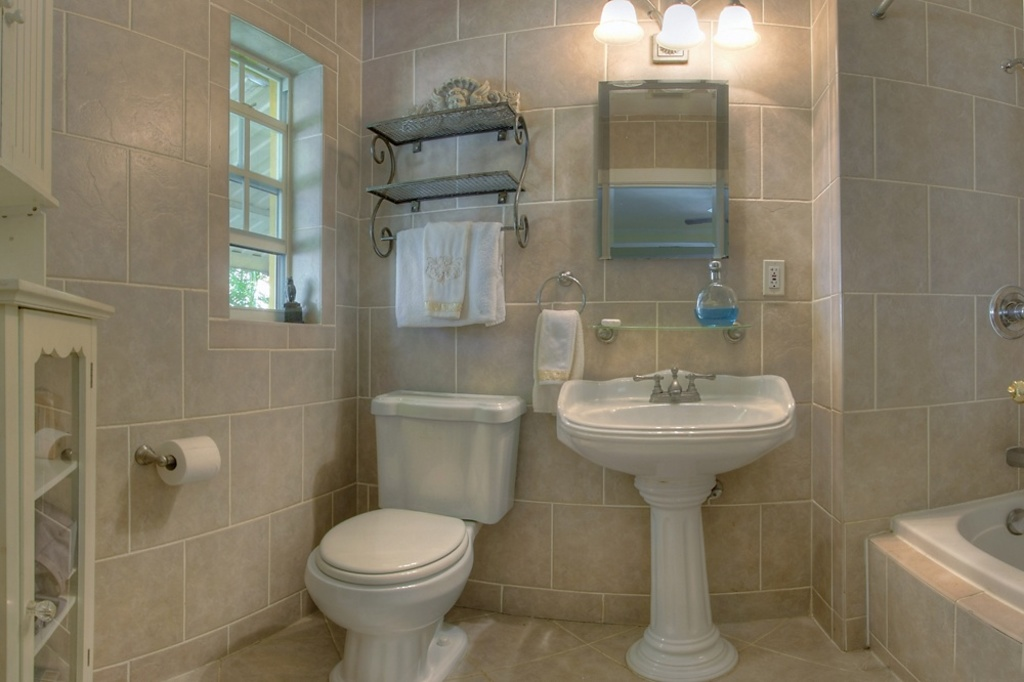tap: (666, 360, 683, 397)
